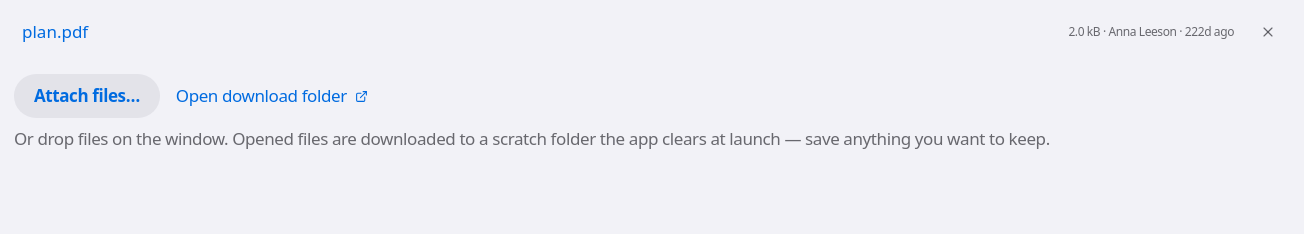
Test case: deleting a file › shows why a delete failed and leaves the file listed
Click the button titled "Delete plan.pdf from this issue" at (1268, 32), box [1246, 10, 1290, 54]
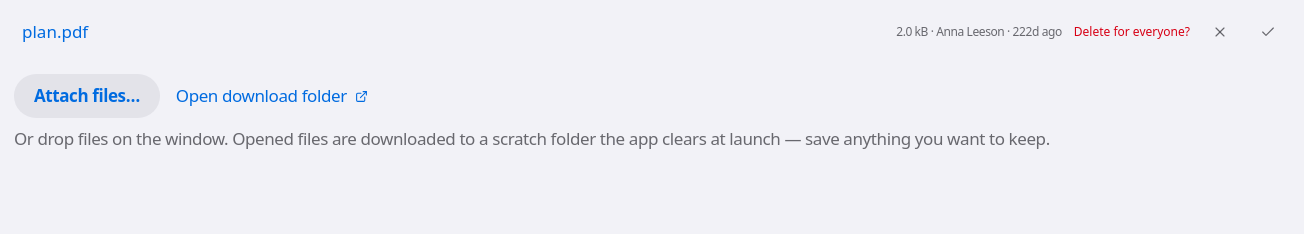
Click the button titled "Delete plan.pdf from this issue" at (1268, 32), box [1246, 10, 1290, 54]
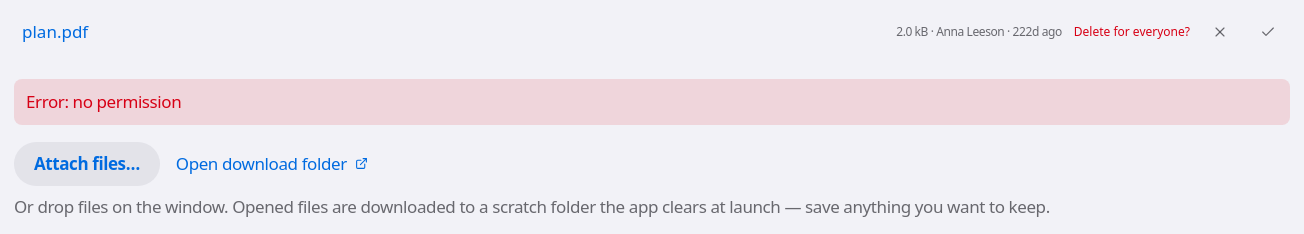
Check: the text "Delete for everyone?" is shown, box [1074, 24, 1190, 40]
Check: the text "Error: no permission" is shown, box [14, 79, 1290, 125]
